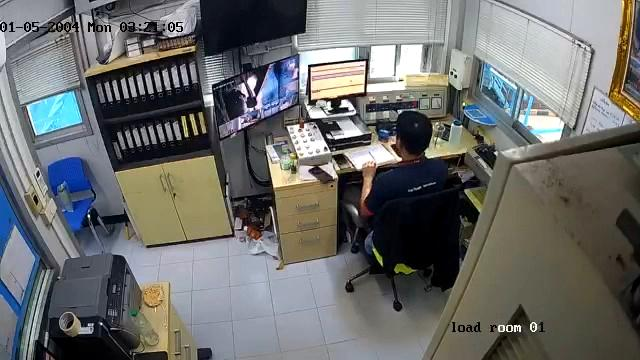Head: (395, 111, 434, 158)
People: (361, 110, 450, 220)
Phone: (308, 165, 334, 185), (332, 153, 352, 171)
